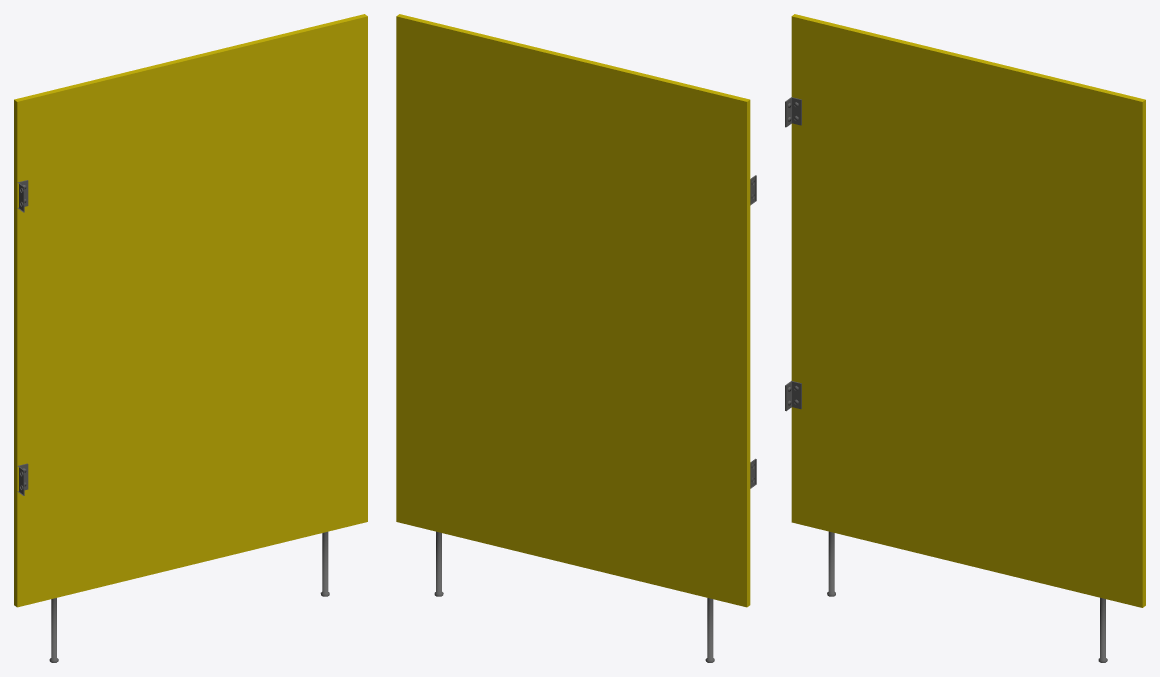
Rendered from SNWP_MOD_BUN_Stall_wall_02.fbx.
3 renders of one model, left to right at view 1: azimuth 30°, elevation 25°; view 2: azimuth 150°, elevation 25°; view 3: azimuth 330°, elevation 25°, orthographic.
Visible parts, largest first — view 1: SNWP_MOD_Stall_wall_02; view 2: SNWP_MOD_Stall_wall_02; view 3: SNWP_MOD_Stall_wall_02.
Part boxes in pixels (bbox=[...]): SNWP_MOD_Stall_wall_02: bbox=[14, 14, 367, 662]; SNWP_MOD_Stall_wall_02: bbox=[396, 14, 756, 662]; SNWP_MOD_Stall_wall_02: bbox=[785, 14, 1145, 662].
Bounding box in the file's own units: 1.23 × 1.91 × 0.0619.
